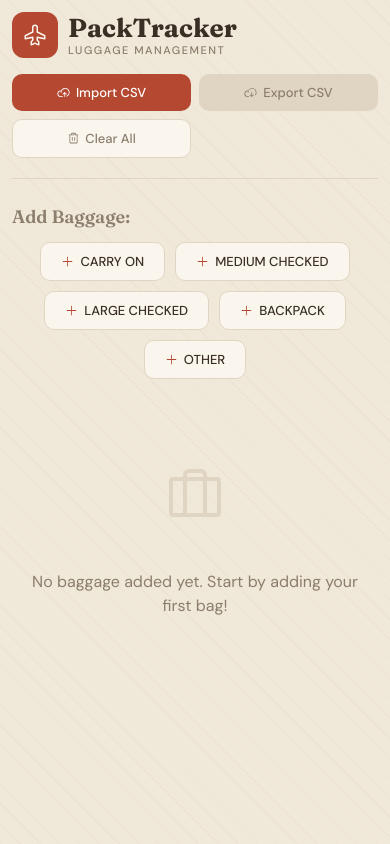
Test: App › can add a new baggage
Expected: the text "No baggage added yet. Start by adding your first bag!" is shown, [32,570,358,618]
# Click on carry-on button
Step 1. Click the button "CARRY ON" → (103, 262), box [40,242,165,281]
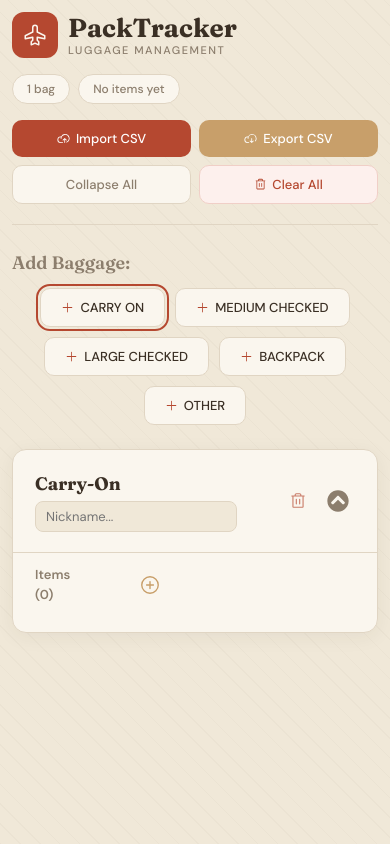
Expected: the text "No baggage added yet. Start by adding your first bag!" is gone
